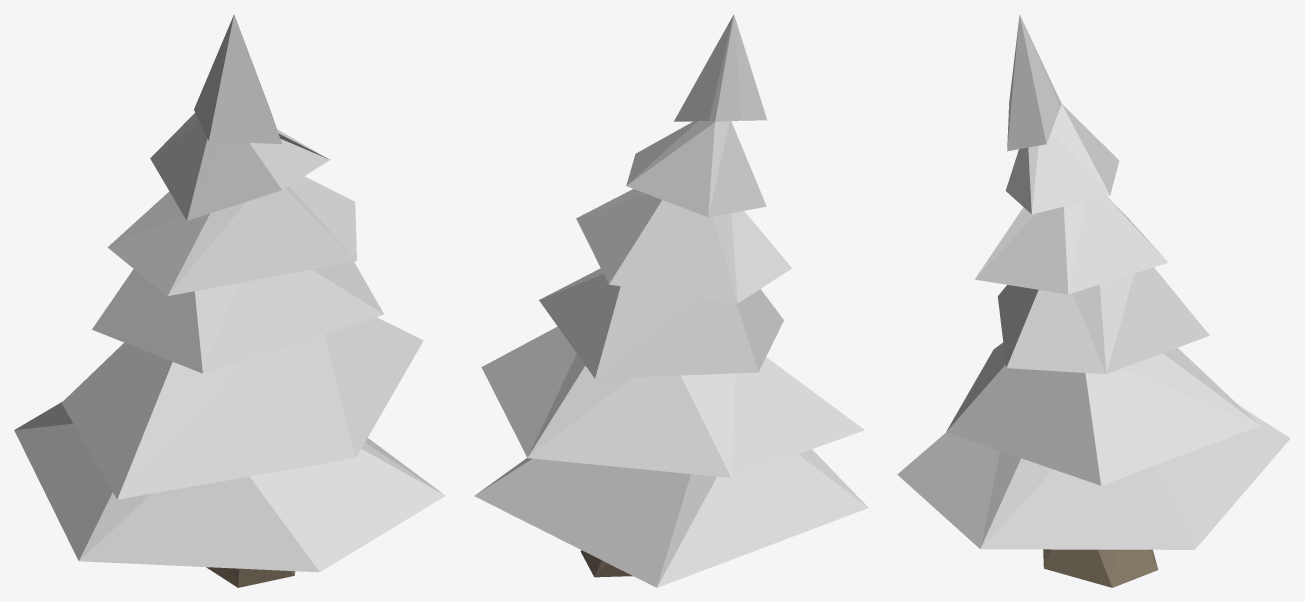
The model's file is Vegetation_Tree_Pine_Snow_04.fbx.
The picture shows the model from 3 angles, left to right: view 1: azimuth 30°, elevation 25°; view 2: azimuth 150°, elevation 25°; view 3: azimuth 270°, elevation 25°; orthographic projection. The views are drawn at different scales.
Parts seen in each view (by area): view 1: Vegetation_Tree_Pine_Snow_04; view 2: Vegetation_Tree_Pine_Snow_04; view 3: Vegetation_Tree_Pine_Snow_04.
Part boxes in pixels (left/top/right/bottom): Vegetation_Tree_Pine_Snow_04: left=14, top=14, right=445, bottom=587; Vegetation_Tree_Pine_Snow_04: left=474, top=14, right=868, bottom=587; Vegetation_Tree_Pine_Snow_04: left=897, top=14, right=1290, bottom=587.
Size of the model in its own units: 3805 by 5520 by 3767.
